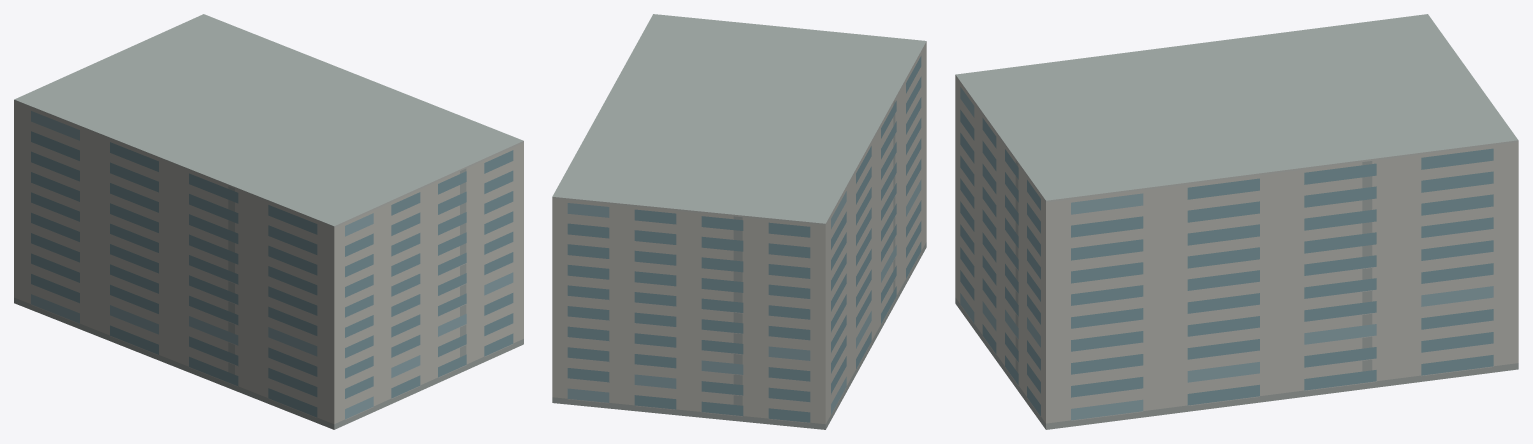
The model's file is residential-3833bd03-604b-4283-a210-542ffdef6975.glb.
3 views of the same model, side by side, from view 1: azimuth 30°, elevation 25°; view 2: azimuth 150°, elevation 25°; view 3: azimuth 270°, elevation 25° (orthographic). The views are drawn at different scales.
Visible parts, largest first — view 1: residential-3833bd03-604b-4283-a210-542ffdef6975.tmp; view 2: residential-3833bd03-604b-4283-a210-542ffdef6975.tmp; view 3: residential-3833bd03-604b-4283-a210-542ffdef6975.tmp.
Part boxes in pixels (box(x1,y1,x2,y2)): residential-3833bd03-604b-4283-a210-542ffdef6975.tmp: box(14, 14, 523, 429); residential-3833bd03-604b-4283-a210-542ffdef6975.tmp: box(552, 14, 926, 429); residential-3833bd03-604b-4283-a210-542ffdef6975.tmp: box(955, 14, 1518, 429).
Size of the model in its own units: 52.44 by 30 by 66.8.
